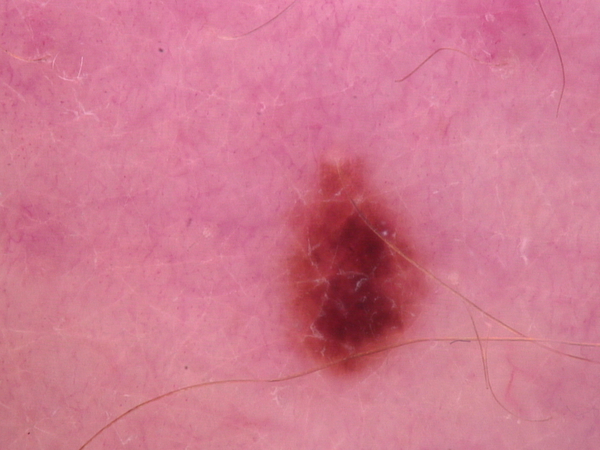Detected Lesion: (270, 153, 428, 385)
